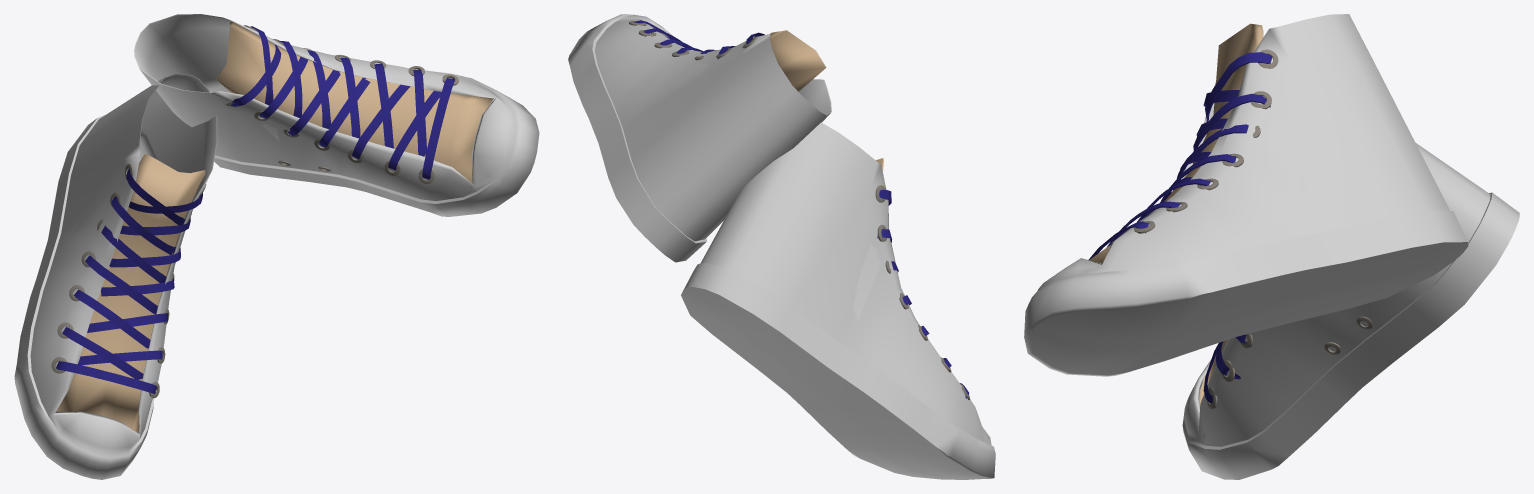
Rendered from Shoes.dae.
3 views of the same model, side by side, from view 1: azimuth 30°, elevation 25°; view 2: azimuth 150°, elevation 25°; view 3: azimuth 270°, elevation 25° (orthographic). The views are drawn at different scales.
Visible parts, largest first — view 1: converse1, converse, conv_tongue, conv_tongue1, laces, laces1; view 2: converse1, converse, conv_tongue, laces, laces1; view 3: converse, converse1, laces, conv_tongue, laces1.
Boxes of the visible parts, <box> form: converse1: <box>14,73,217,479</box>; converse: <box>134,14,539,216</box>; conv_tongue: <box>216,22,493,182</box>; conv_tongue1: <box>56,154,205,433</box>; laces: <box>231,26,454,179</box>; laces1: <box>56,169,202,394</box>; converse1: <box>681,122,995,479</box>; converse: <box>568,14,831,262</box>; conv_tongue: <box>770,30,826,91</box>; laces: <box>634,20,764,59</box>; laces1: <box>877,190,969,398</box>; converse: <box>1024,14,1468,376</box>; converse1: <box>1182,143,1519,479</box>; laces: <box>1088,52,1272,259</box>; conv_tongue: <box>1089,23,1263,263</box>; laces1: <box>1203,334,1251,403</box>.
Bounding box in the file's own units: 32.7 × 29.29 × 24.8.
